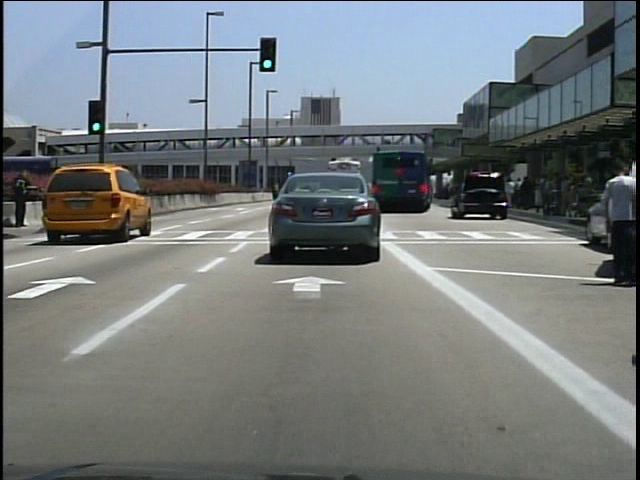person: (598, 152, 634, 293), (12, 164, 35, 228)
